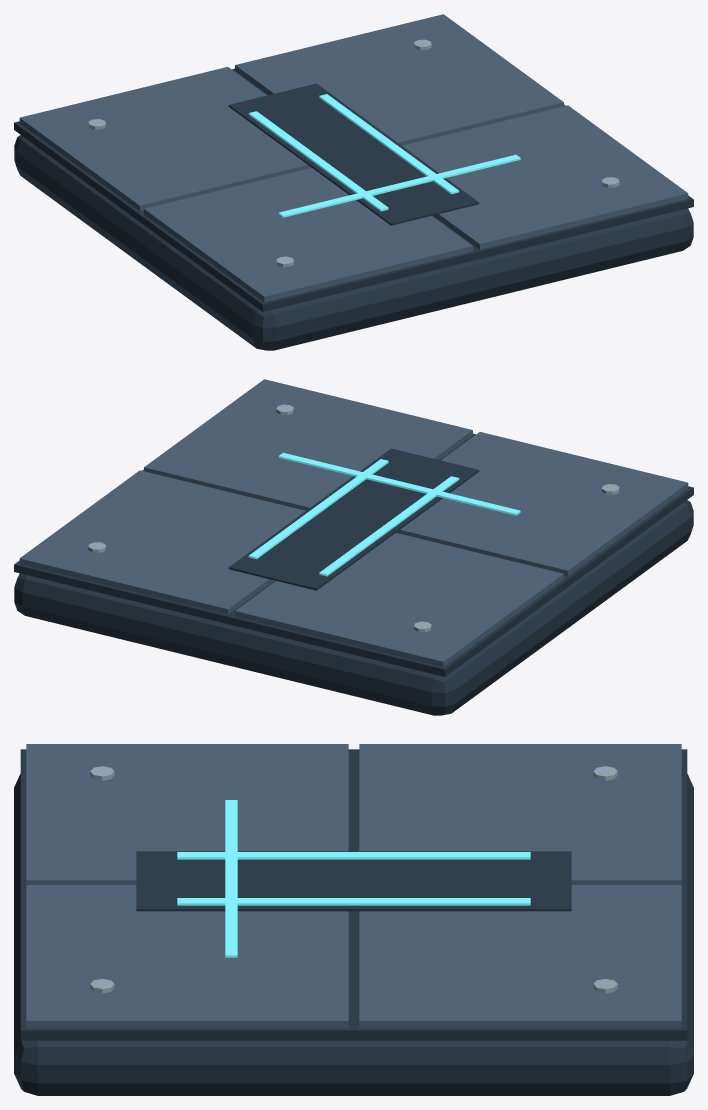
File: core_floor_variant.glb
3 views of the same model, one above another, from view 1: azimuth 30°, elevation 25°; view 2: azimuth 150°, elevation 25°; view 3: azimuth 270°, elevation 25° (orthographic). The views are drawn at different scales.
Visible parts, largest first — view 1: core_floor_skin; view 2: core_floor_skin; view 3: core_floor_skin.
Boxes of the visible parts, x1,y1,x2,y2 form: core_floor_skin: [14, 14, 693, 350]; core_floor_skin: [14, 379, 693, 715]; core_floor_skin: [14, 744, 693, 1095].
Bounding box in the file's own units: 2 × 0.272 × 2.
